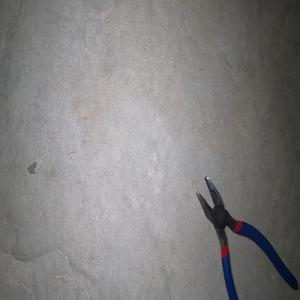Pliers: (195, 175, 298, 300)
